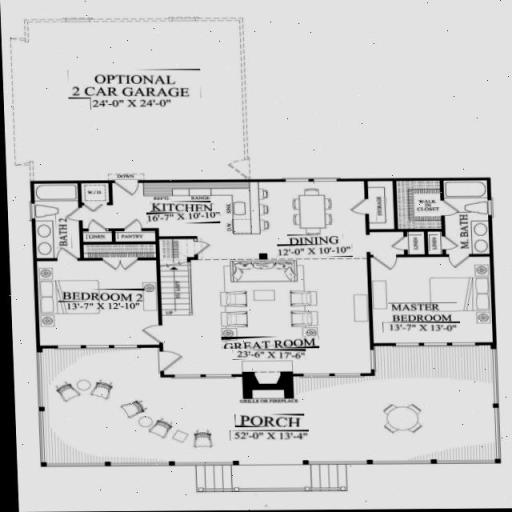bathroom: (40, 186, 142, 256)
bedroom: (372, 185, 511, 356), (43, 258, 163, 342)
garage: (30, 15, 243, 175)
hall: (173, 250, 352, 372)
kitchen: (152, 192, 279, 248), (281, 179, 362, 255)
porch: (63, 381, 495, 467)
